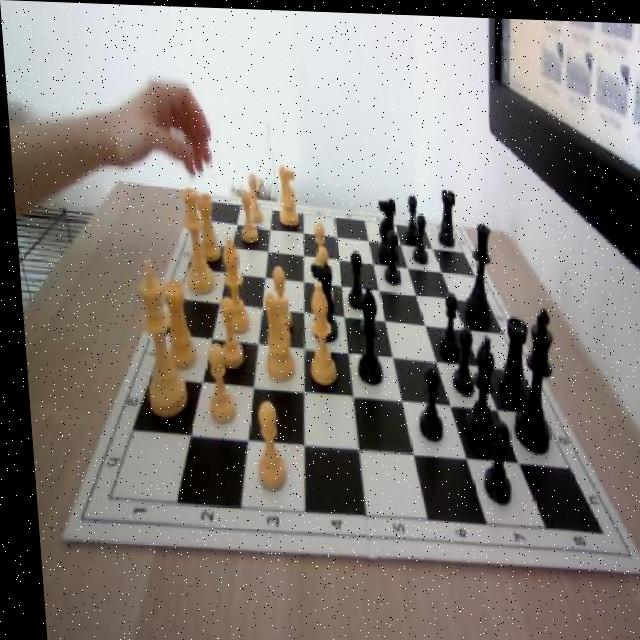bishop: (454, 328, 495, 446), (348, 283, 378, 382)
black-bishop: (502, 305, 555, 451)
black-king: (305, 257, 334, 339), (367, 189, 397, 266)
black-knight: (473, 416, 507, 501), (410, 360, 440, 438), (443, 323, 471, 393), (431, 287, 457, 355), (342, 247, 364, 308), (379, 228, 401, 285), (407, 210, 425, 263), (400, 191, 418, 242)
black-pawn: (455, 218, 493, 324)
black-queen: (490, 310, 526, 400), (433, 186, 455, 244)
black-rook: (299, 284, 332, 385), (213, 235, 245, 333)
white-bishop: (131, 256, 183, 416)
white-king: (250, 281, 295, 383), (272, 160, 299, 225)
white-knight: (244, 399, 282, 490), (196, 339, 232, 424), (209, 294, 241, 370), (261, 264, 289, 333), (308, 246, 331, 305), (305, 219, 327, 277), (241, 174, 262, 224), (235, 190, 256, 240)
white-pawn: (175, 185, 214, 292)
white-queen: (157, 273, 192, 368), (192, 193, 216, 263)
